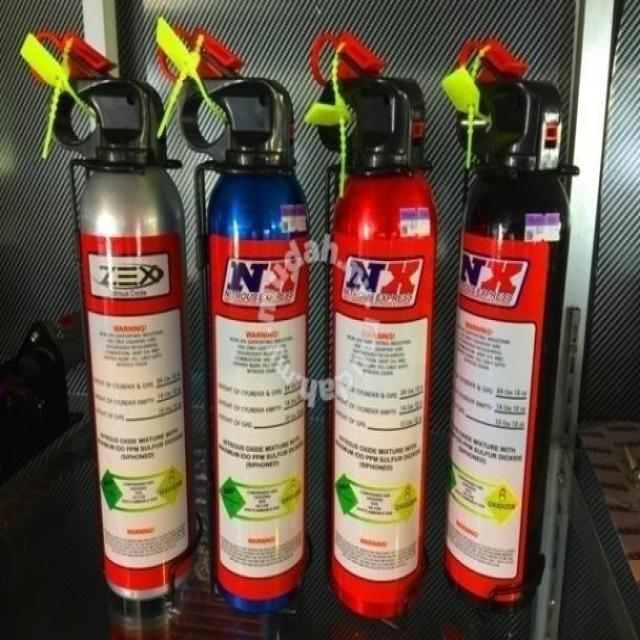fire_extinguisher: (17, 26, 202, 606), (157, 11, 313, 616), (438, 33, 585, 617), (300, 28, 438, 620)
